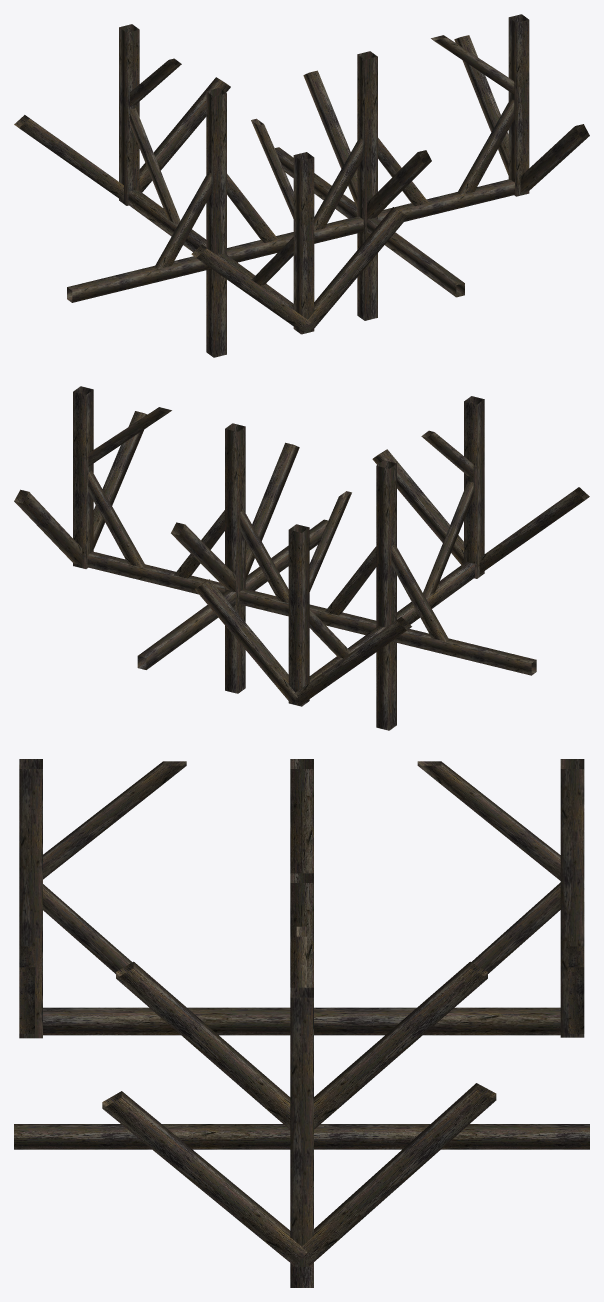
The model's file is NW_CITY_BEAMS_PUB_01.glb.
3 views of the same model, one above another, from view 1: azimuth 30°, elevation 25°; view 2: azimuth 150°, elevation 25°; view 3: azimuth 270°, elevation 25° (orthographic). The views are drawn at different scales.
Visible parts, largest first — view 1: Mesh; view 2: Mesh; view 3: Mesh.
Part boxes in pixels (x1,y1,x2,y2): Mesh: (14, 14, 589, 357); Mesh: (14, 386, 589, 730); Mesh: (14, 759, 589, 1287).
Size of the model in its own units: 15.66 by 8.58 by 11.05.
1 material, 1 textured.
